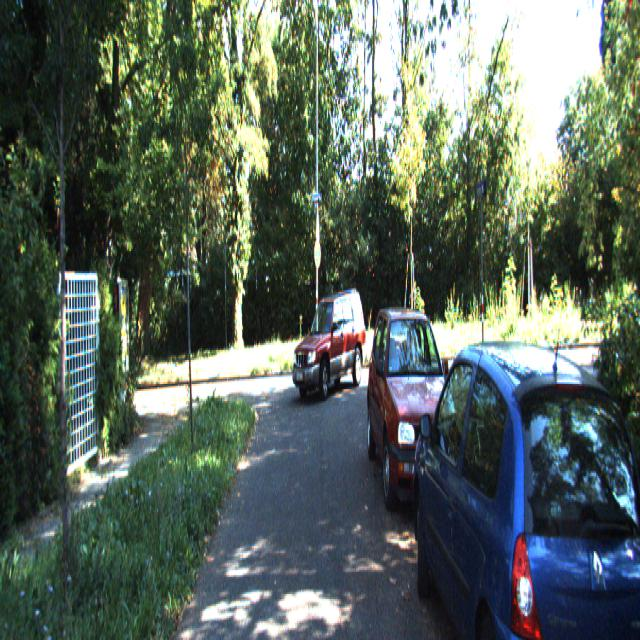Car: (405, 324, 640, 638), (366, 306, 469, 525), (291, 285, 368, 396)
